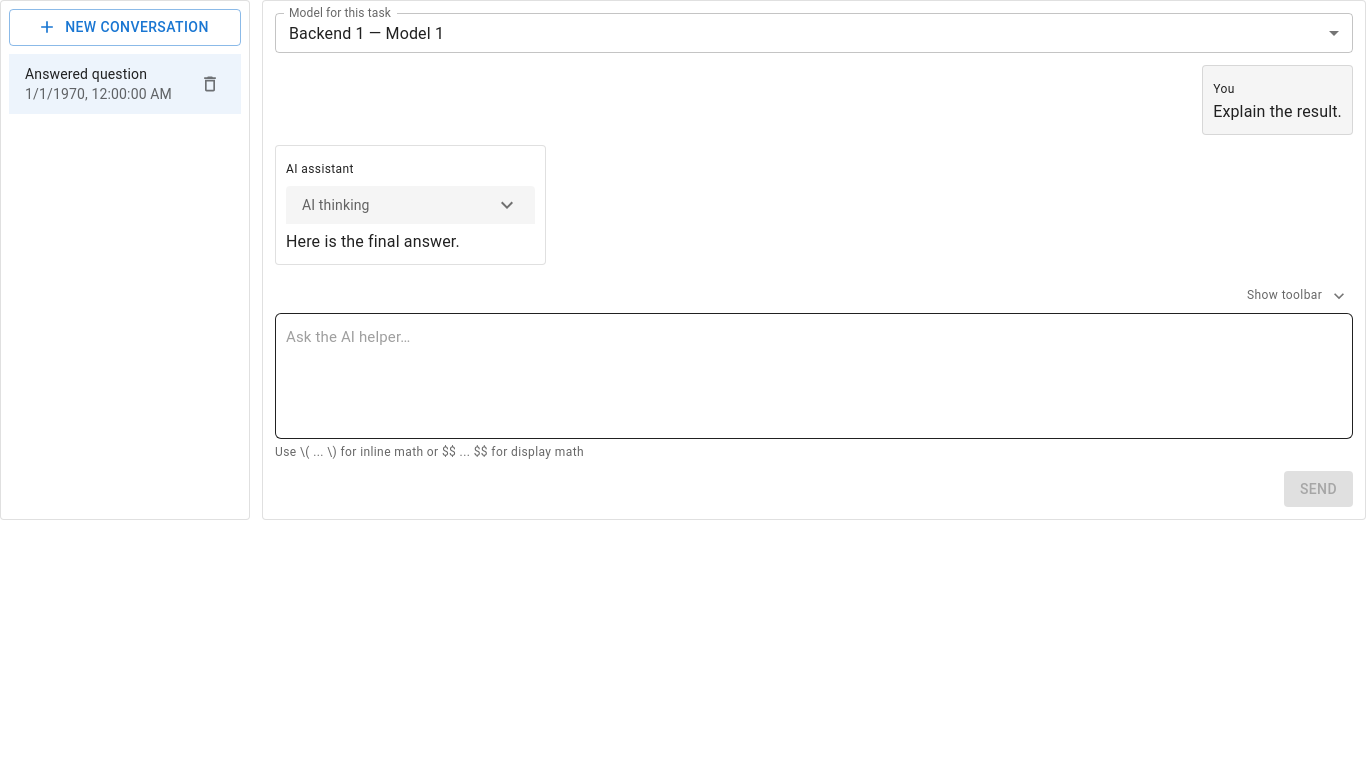
Test case: AiCourseChat › collapses completed thinking output and lets the user expand it
This screenshot has width=1366, height=768.
Expected: the text "Here is the final answer." is shown, [286,232,460,251]
Click the button "AI thinking".
click(411, 205)  # box [286,186,535,224]
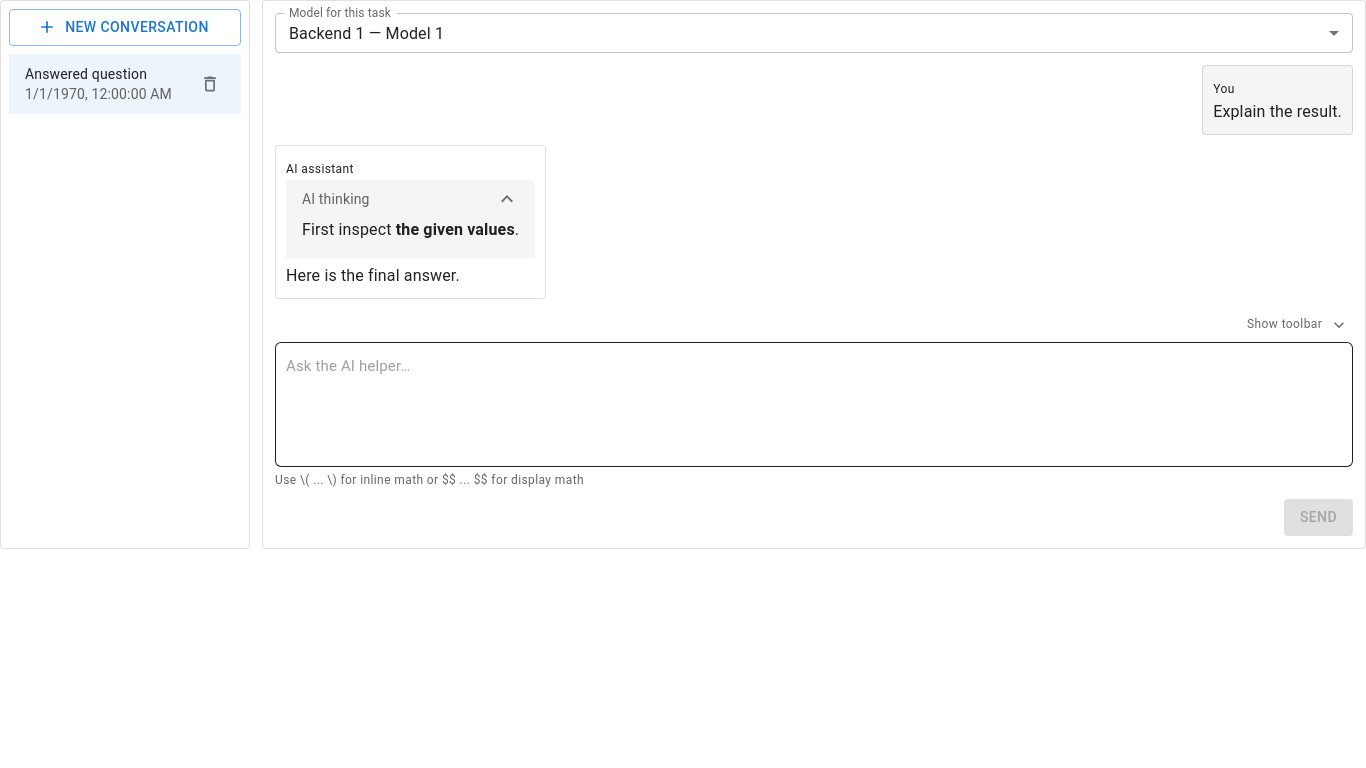
Expected: the button "AI thinking" is expanded, [286,180,535,218]
Expected: the text "the given values" is shown, [396,220,515,239]
